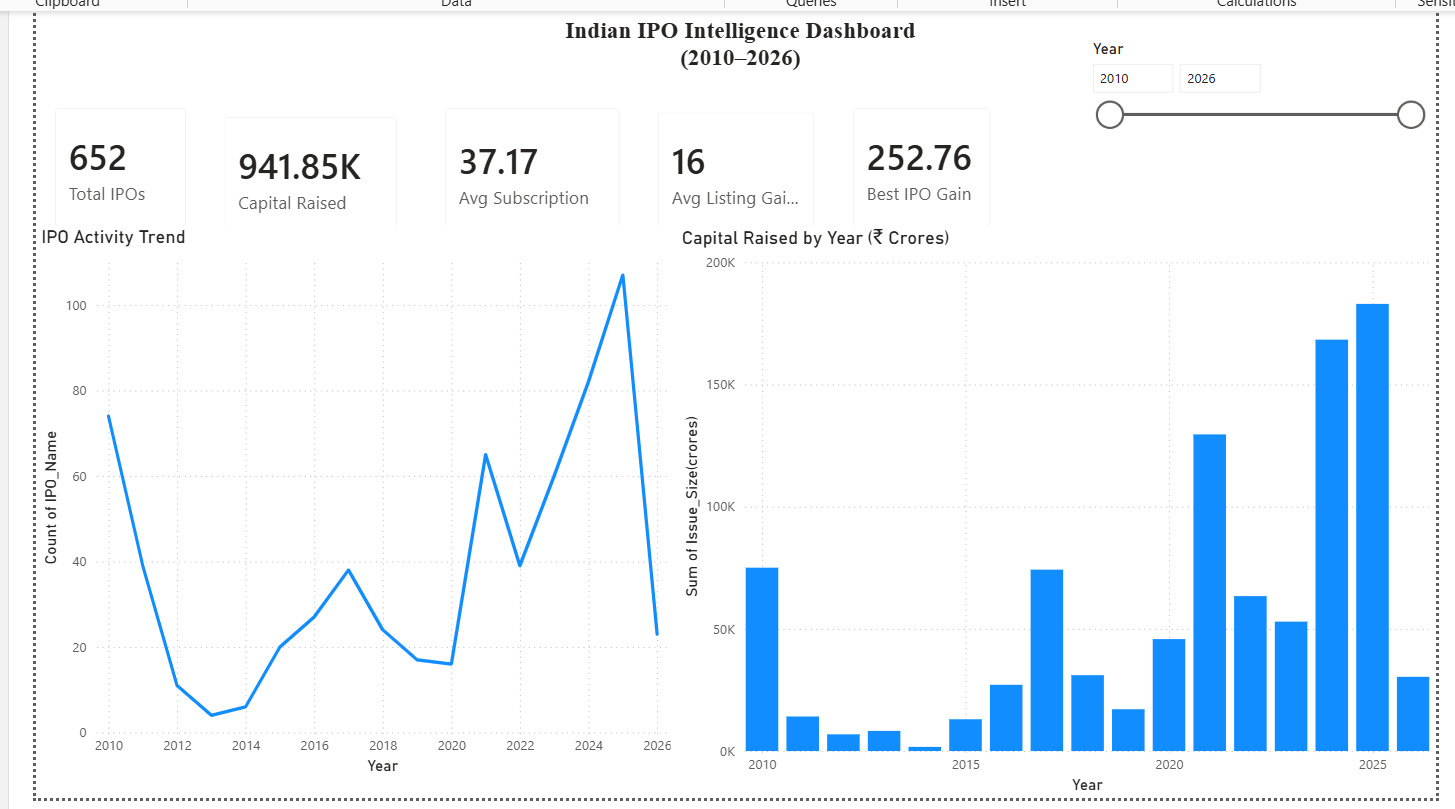

Layout of this report page (visuals, bound fields, positions):
{"tool":"powerbi","page":{"name":"IPO Market Overview","canvas":[1280,720],"ordinal":0},"visuals":[{"type":"cardVisual","fields":{"Data":["Sheet1.Total IPOs"]},"box":[0,71.8,155,143.6],"z":0},{"type":"cardVisual","title":"Capital Raised (₹ Cr)","fields":{"Data":["Sheet1.Capital Raised"]},"box":[155,79.4,192.8,143.6],"z":1000},{"type":"cardVisual","fields":{"Data":["Sheet1.Best IPO Gain"]},"box":[729.5,71.8,160.6,143.6],"z":2000},{"type":"cardVisual","fields":{"Data":["Sheet1.Avg Subscription"]},"box":[357.2,71.8,194.6,151.2],"z":3000},{"type":"cardVisual","fields":{"Data":["Sheet1.Avg Listing Gain"]},"box":[551.8,75.6,177.6,141.7],"z":4000},{"type":"textbox","box":[9.4,0,1269.9,79.4],"z":5000},{"type":"lineChart","title":"IPO Activity Trend","fields":{"Category":["Sheet1.Date.Variation.Date Hierarchy.Year"],"Y":["CountNonNull(Sheet1.IPO_Name)"]},"box":[0,196.5,585.8,506.5],"z":6000},{"type":"clusteredColumnChart","title":"Capital Raised by Year (₹ Crores)","fields":{"Category":["Sheet1.Date.Variation.Date Hierarchy.Year"],"Y":["Sum(Sheet1.Issue_Size(crores))"]},"box":[585.8,196.5,693.5,523.5],"z":7000},{"type":"slicer","fields":{"Values":["Sheet1.Date.Variation.Date Hierarchy.Year"]},"box":[954.3,20.8,325,194.6],"z":8000}]}

Visuals, with their boxes on the page's 1280x720 design canvas (x1, y1, x2, y2). These are canvas units, not pixel positions in the 1455x809 screenshot, which may show the page scaled, cropped or inside an application window:
cardVisual - Sheet1.Total IPOs: <box>0,72,155,215</box>
"Capital Raised (₹ Cr)" cardVisual: <box>155,79,348,223</box>
cardVisual - Sheet1.Best IPO Gain: <box>730,72,890,215</box>
cardVisual - Sheet1.Avg Subscription: <box>357,72,552,223</box>
cardVisual - Sheet1.Avg Listing Gain: <box>552,76,729,217</box>
textbox: <box>9,0,1279,79</box>
"IPO Activity Trend" lineChart: <box>0,196,586,703</box>
"Capital Raised by Year (₹ Crores)" clusteredColumnChart: <box>586,196,1279,720</box>
slicer - Sheet1.Date.Variation.Date Hierarchy.Year: <box>954,21,1279,215</box>
